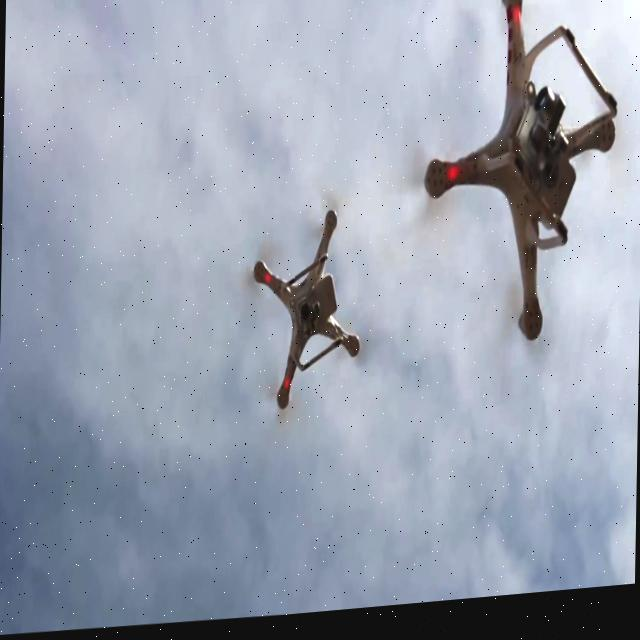drone: (420, 0, 620, 359), (248, 206, 365, 422)
